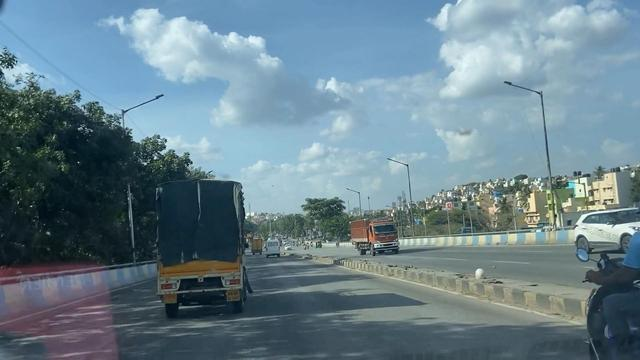HMV: (154, 167, 249, 323)
